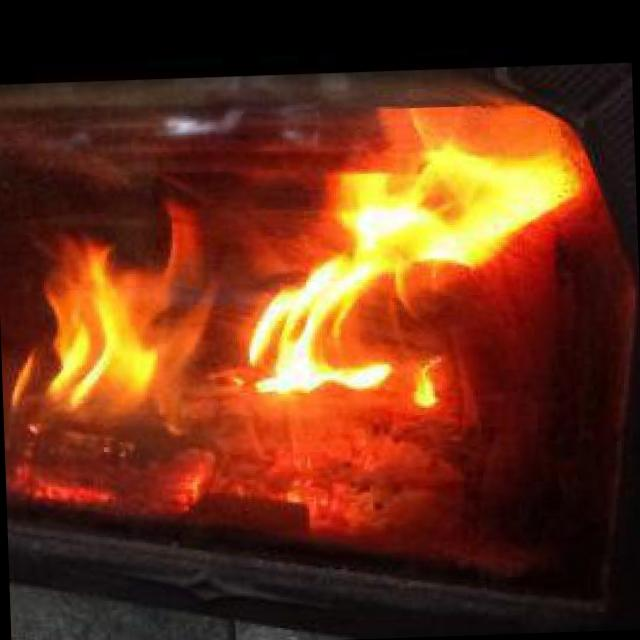fire: (0, 101, 606, 507)
